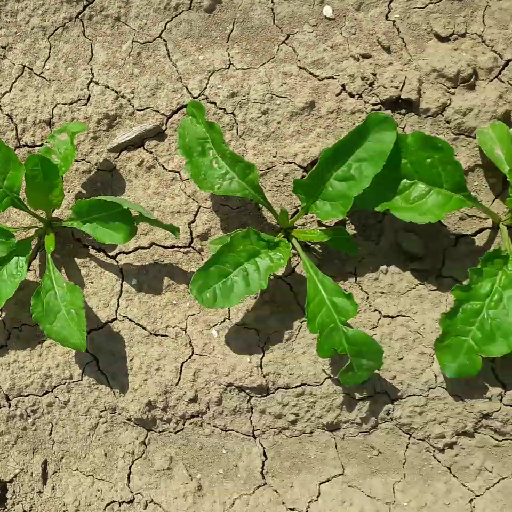sugarbeet: (178, 95, 397, 388), (316, 113, 512, 390), (1, 114, 179, 362)
